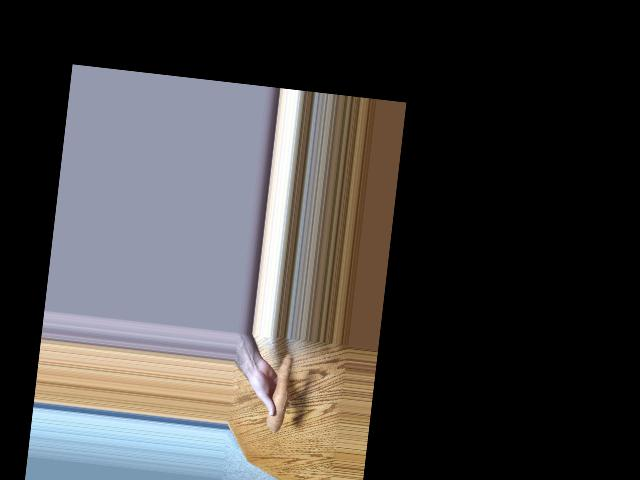sweet_potato: (268, 350, 295, 432)
